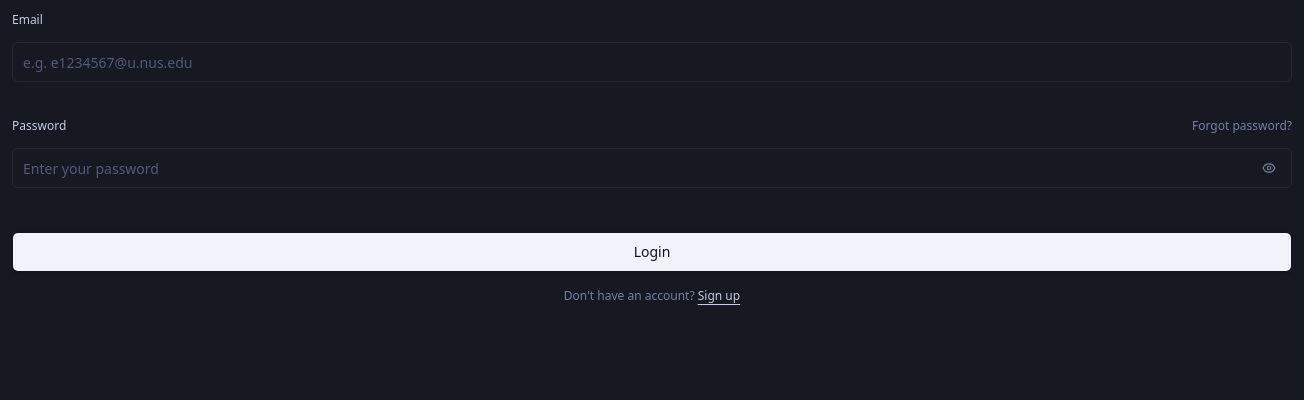
Test: LoginForm Component › displays an error alert message when authentication fails
Type "wrong@u.nus.edu" into the field labelled "Email" at (652, 62), box 12,42 -> 1292,82
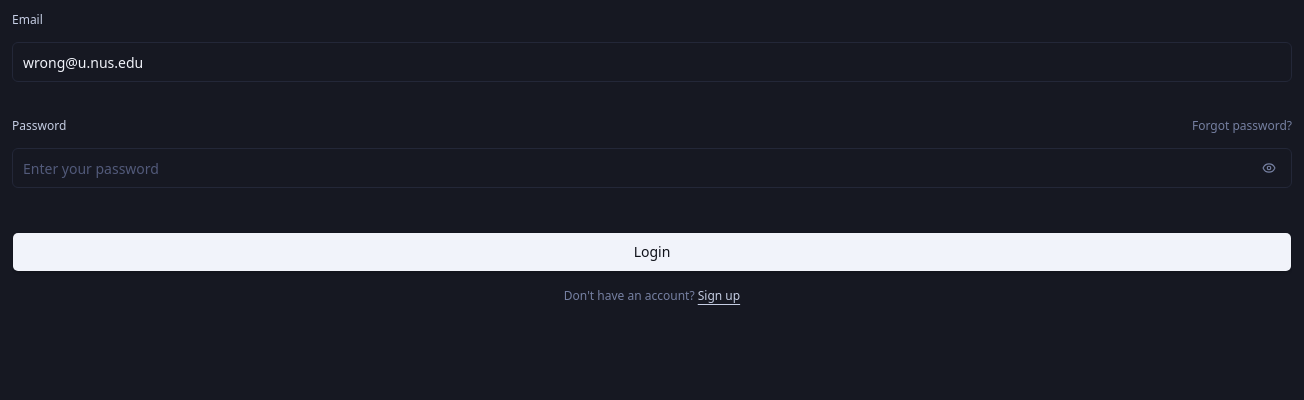
Type "wrongpass" into the password field labelled "Password" at (652, 168), box 12,148 -> 1292,188
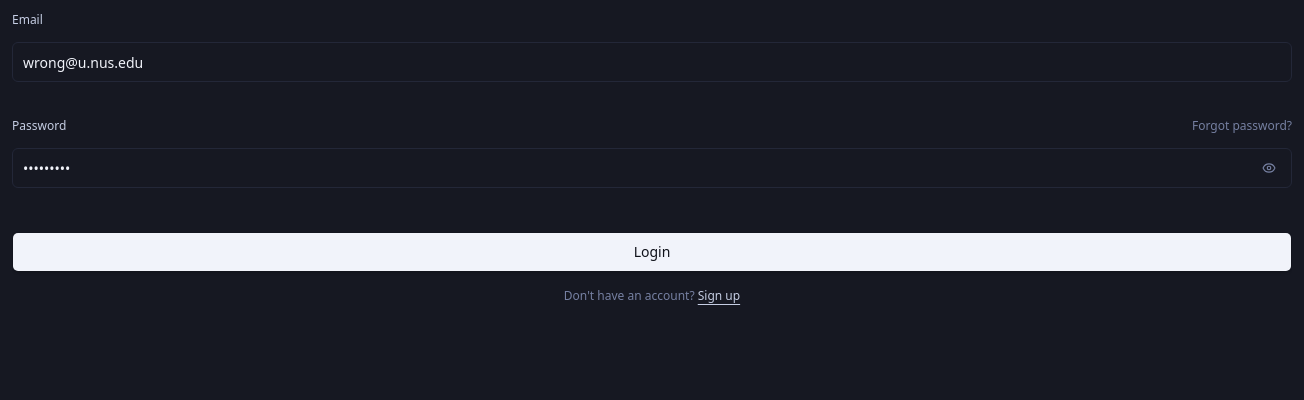
Click the button "Login" at (652, 252), box 12,232 -> 1292,272
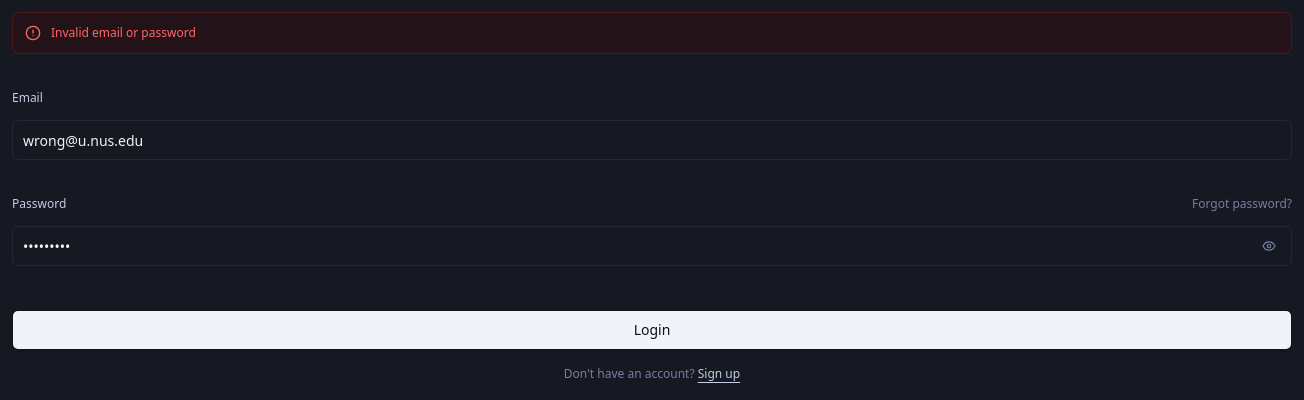
expect the text "Invalid email or password" is shown: met, box 51,25 -> 196,41
